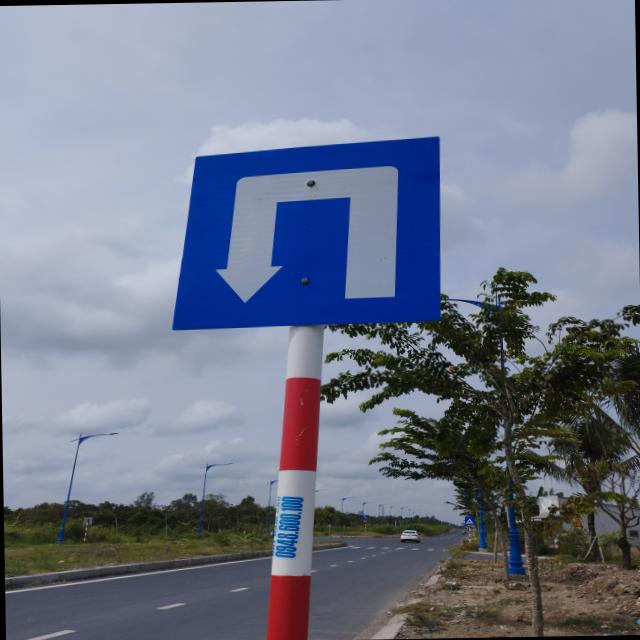Den_Giao_Thong: (172, 132, 442, 326)
